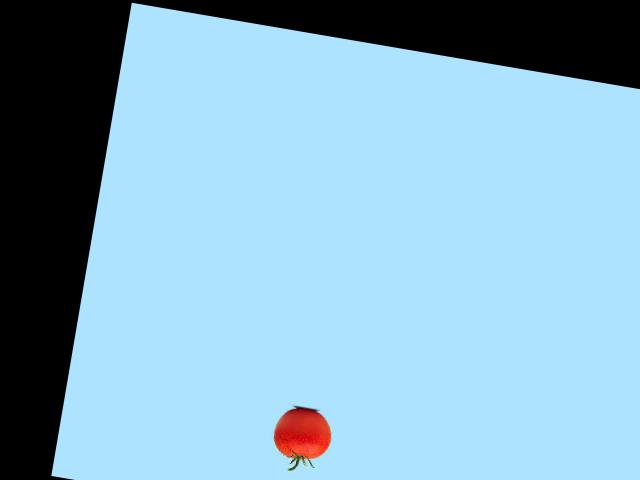tomato: (271, 404, 335, 463)
